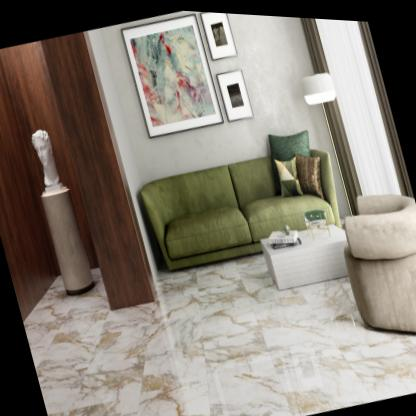Ceramic floor: (25, 293, 416, 416)
Chair: (343, 189, 416, 328)
Curtains: (357, 17, 414, 193)
Frame: (121, 11, 224, 135), (216, 66, 253, 118), (200, 9, 237, 57)
Sofa: (138, 127, 341, 270)
